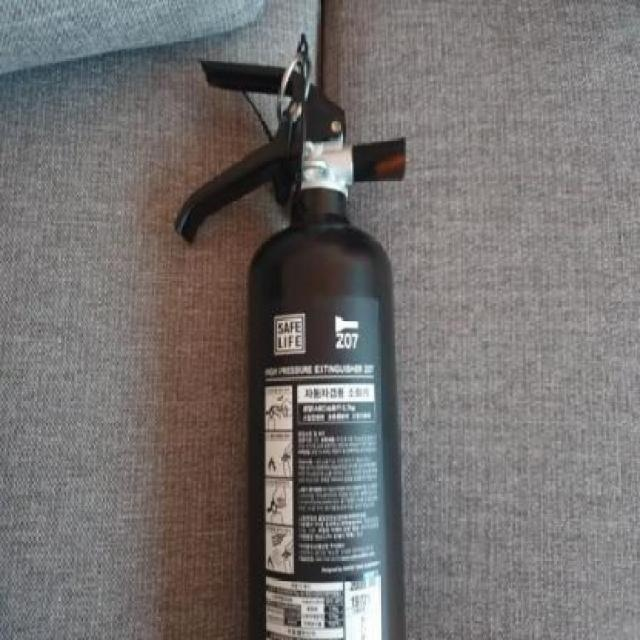fire extinguisher: (174, 58, 408, 640)
